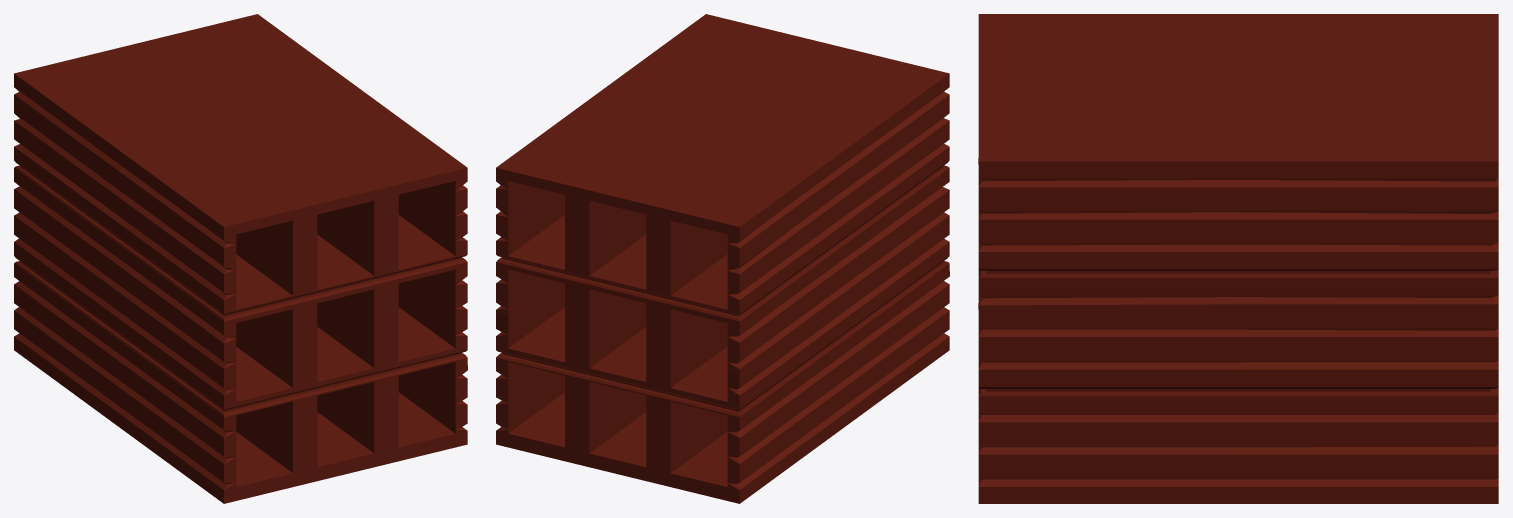
Rendered from REDBRICKLOW.fbx.
3 views of the same model, side by side, from view 1: azimuth 30°, elevation 25°; view 2: azimuth 150°, elevation 25°; view 3: azimuth 270°, elevation 25° (orthographic). The views are drawn at different scales.
Visible parts, largest first — view 1: REDBRICKHIGH; view 2: REDBRICKHIGH; view 3: REDBRICKHIGH.
Boxes of the visible parts, bbox=[...] form: REDBRICKHIGH: bbox=[14, 14, 467, 503]; REDBRICKHIGH: bbox=[496, 14, 949, 503]; REDBRICKHIGH: bbox=[978, 14, 1498, 503].
Size of the model in its own units: 716 by 775 by 1065.
